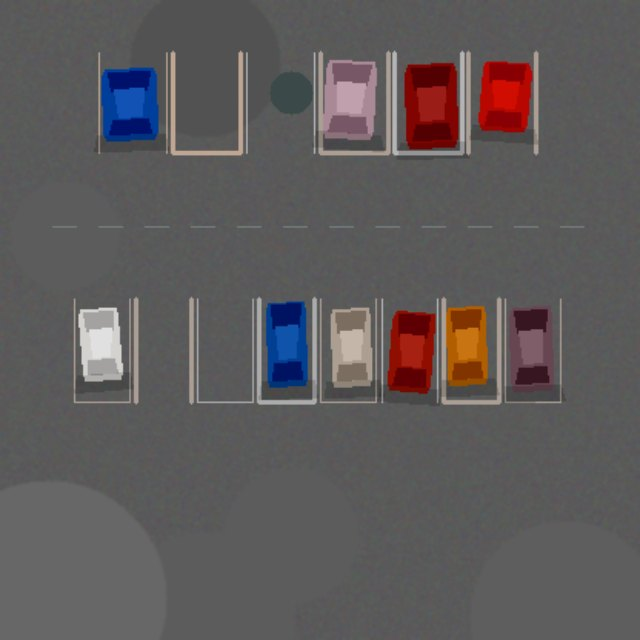space-empty: (172, 52, 240, 152), (246, 52, 314, 152), (135, 298, 191, 402), (197, 298, 252, 402)
space-occupied: (98, 52, 166, 152), (320, 52, 388, 152), (394, 52, 462, 152), (468, 52, 535, 152), (258, 298, 314, 402), (74, 298, 129, 402), (320, 298, 375, 402), (382, 298, 437, 402), (443, 298, 498, 402), (505, 298, 560, 402)
